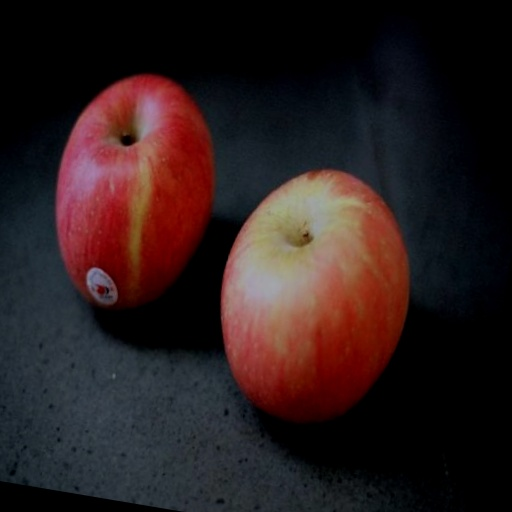fruit: (220, 170, 408, 425), (55, 74, 213, 311)
